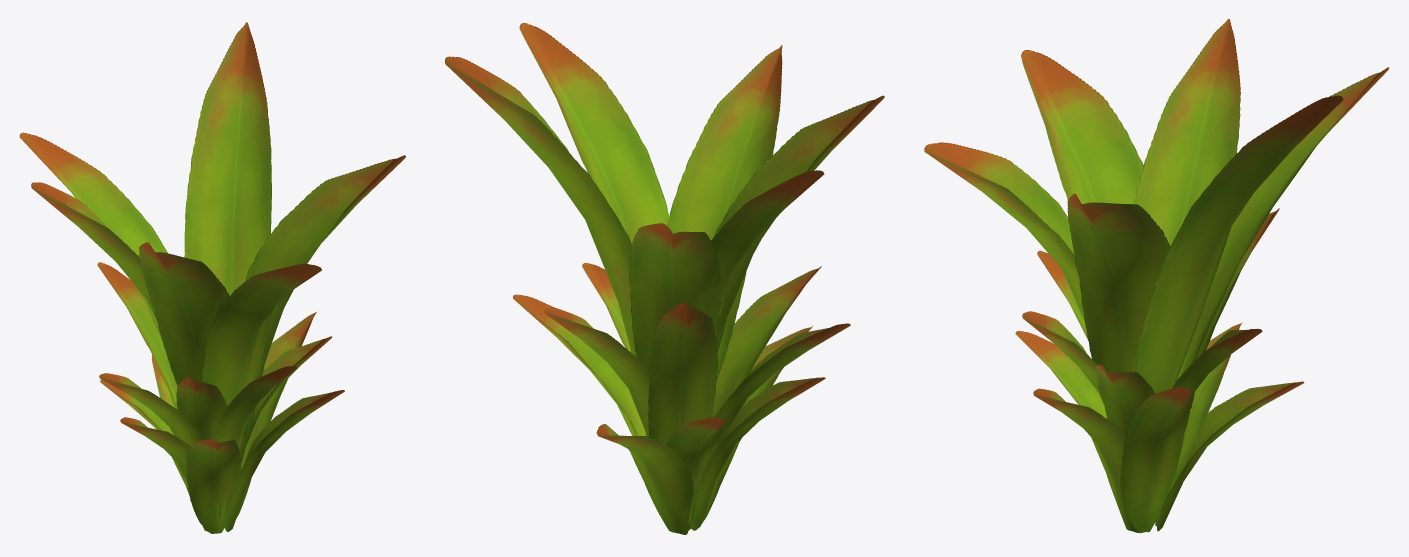
The model's file is Plant_1_Big.gltf.
3 views of the same model, side by side, from view 1: azimuth 30°, elevation 25°; view 2: azimuth 150°, elevation 25°; view 3: azimuth 270°, elevation 25° (orthographic). The views are drawn at different scales.
Visible parts, largest first — view 1: Plant_1_Big; view 2: Plant_1_Big; view 3: Plant_1_Big.
Boxes of the visible parts, bbox=[...] form: Plant_1_Big: bbox=[19, 22, 405, 533]; Plant_1_Big: bbox=[445, 22, 884, 534]; Plant_1_Big: bbox=[924, 19, 1389, 533].
Bounding box in the file's own units: 1.81 × 2.35 × 1.95.
Materials: 1 (1 with a texture image).
